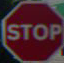Stop: (3, 2, 60, 55)
